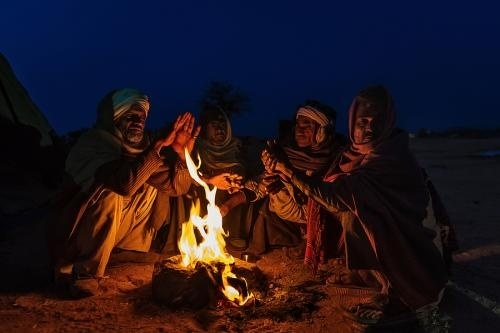fire: (176, 194, 236, 267)
